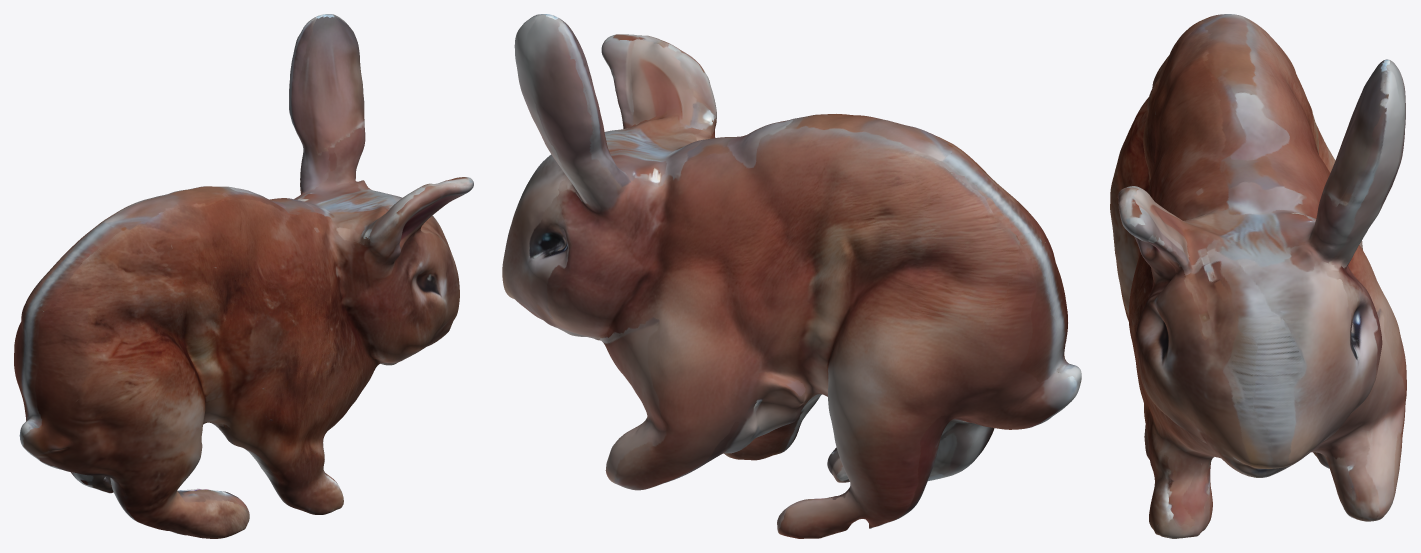
File: adulto.glb
3 renders of one model, left to right at view 1: azimuth 30°, elevation 25°; view 2: azimuth 150°, elevation 25°; view 3: azimuth 270°, elevation 25°, orthographic. The views are drawn at different scales.
Parts seen in each view (by area): view 1: mesh; view 2: mesh; view 3: mesh.
Boxes of the visible parts, box(x1,y1,x2,y2) form: mesh: box(14, 14, 473, 538); mesh: box(502, 14, 1081, 538); mesh: box(1110, 14, 1406, 538).
Size of the model in its own units: 1.72 by 1.47 by 0.7644.
1 material, 1 textured.
